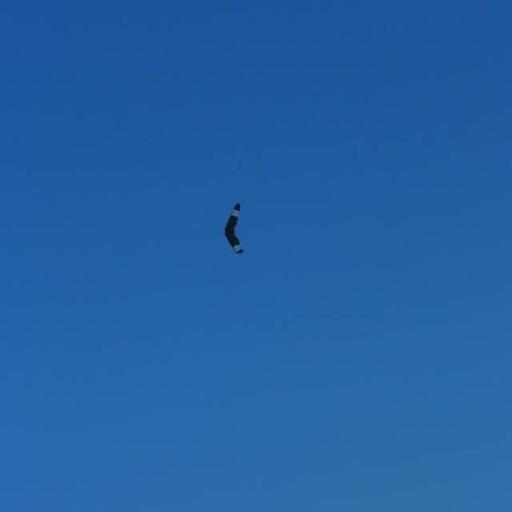uav: (223, 200, 251, 266)
